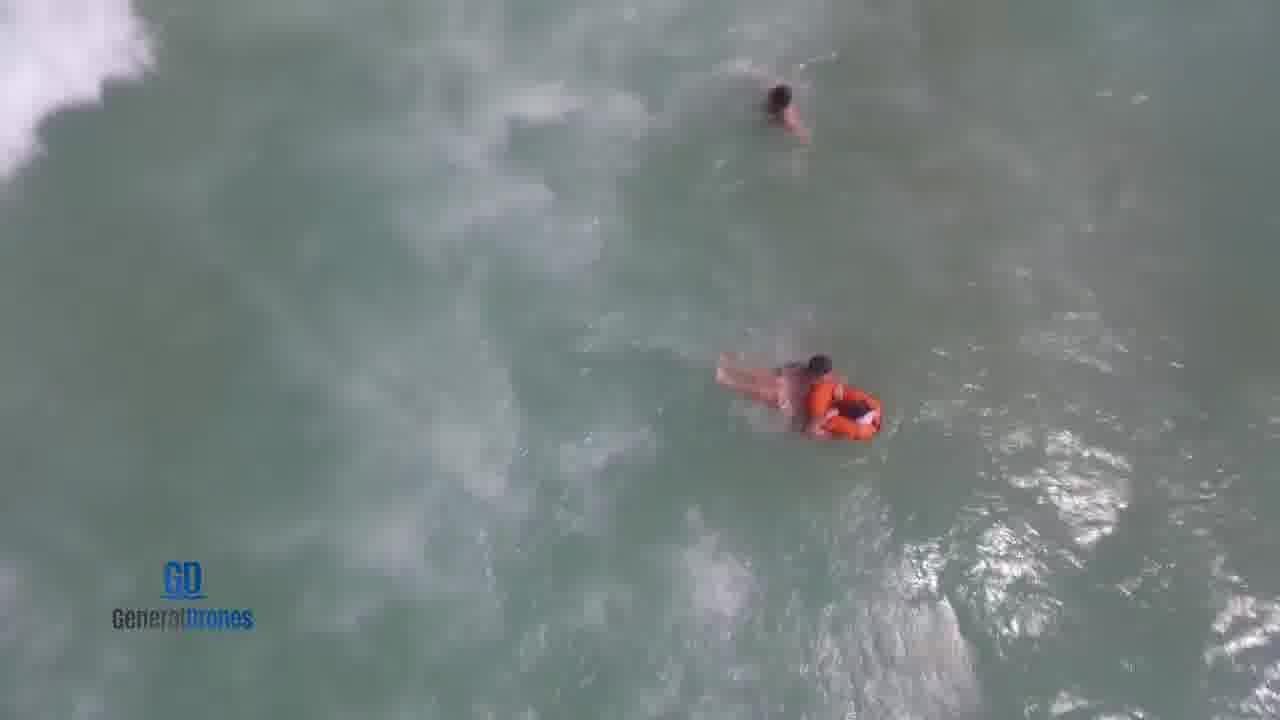human: (710, 356, 882, 439), (757, 76, 807, 128), (786, 349, 853, 384)
